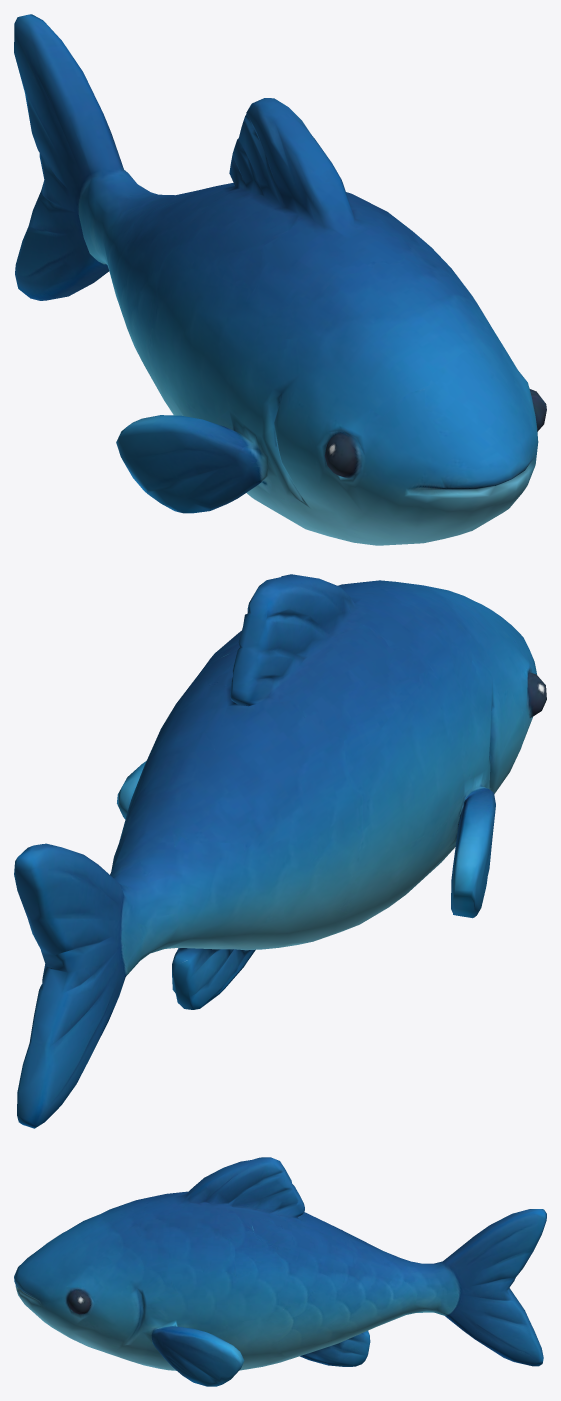
File: fish-compact-e94279c.glb
The picture shows the model from 3 angles, top to bottom: view 1: azimuth 30°, elevation 25°; view 2: azimuth 150°, elevation 25°; view 3: azimuth 270°, elevation 25°; orthographic projection. The views are drawn at different scales.
Parts seen in each view (by area): view 1: tripo_node_60ae907b-c13b-4686-8d5f-88428c688418; view 2: tripo_node_60ae907b-c13b-4686-8d5f-88428c688418; view 3: tripo_node_60ae907b-c13b-4686-8d5f-88428c688418.
Boxes of the visible parts, left/top/right/bottom form: tripo_node_60ae907b-c13b-4686-8d5f-88428c688418: left=14, top=14, right=546, bottom=545; tripo_node_60ae907b-c13b-4686-8d5f-88428c688418: left=14, top=574, right=546, bottom=1128; tripo_node_60ae907b-c13b-4686-8d5f-88428c688418: left=14, top=1157, right=546, bottom=1386.
Size of the model in its own units: 0.4373 by 0.43 by 1.
Materials: 1 (1 with a texture image).
